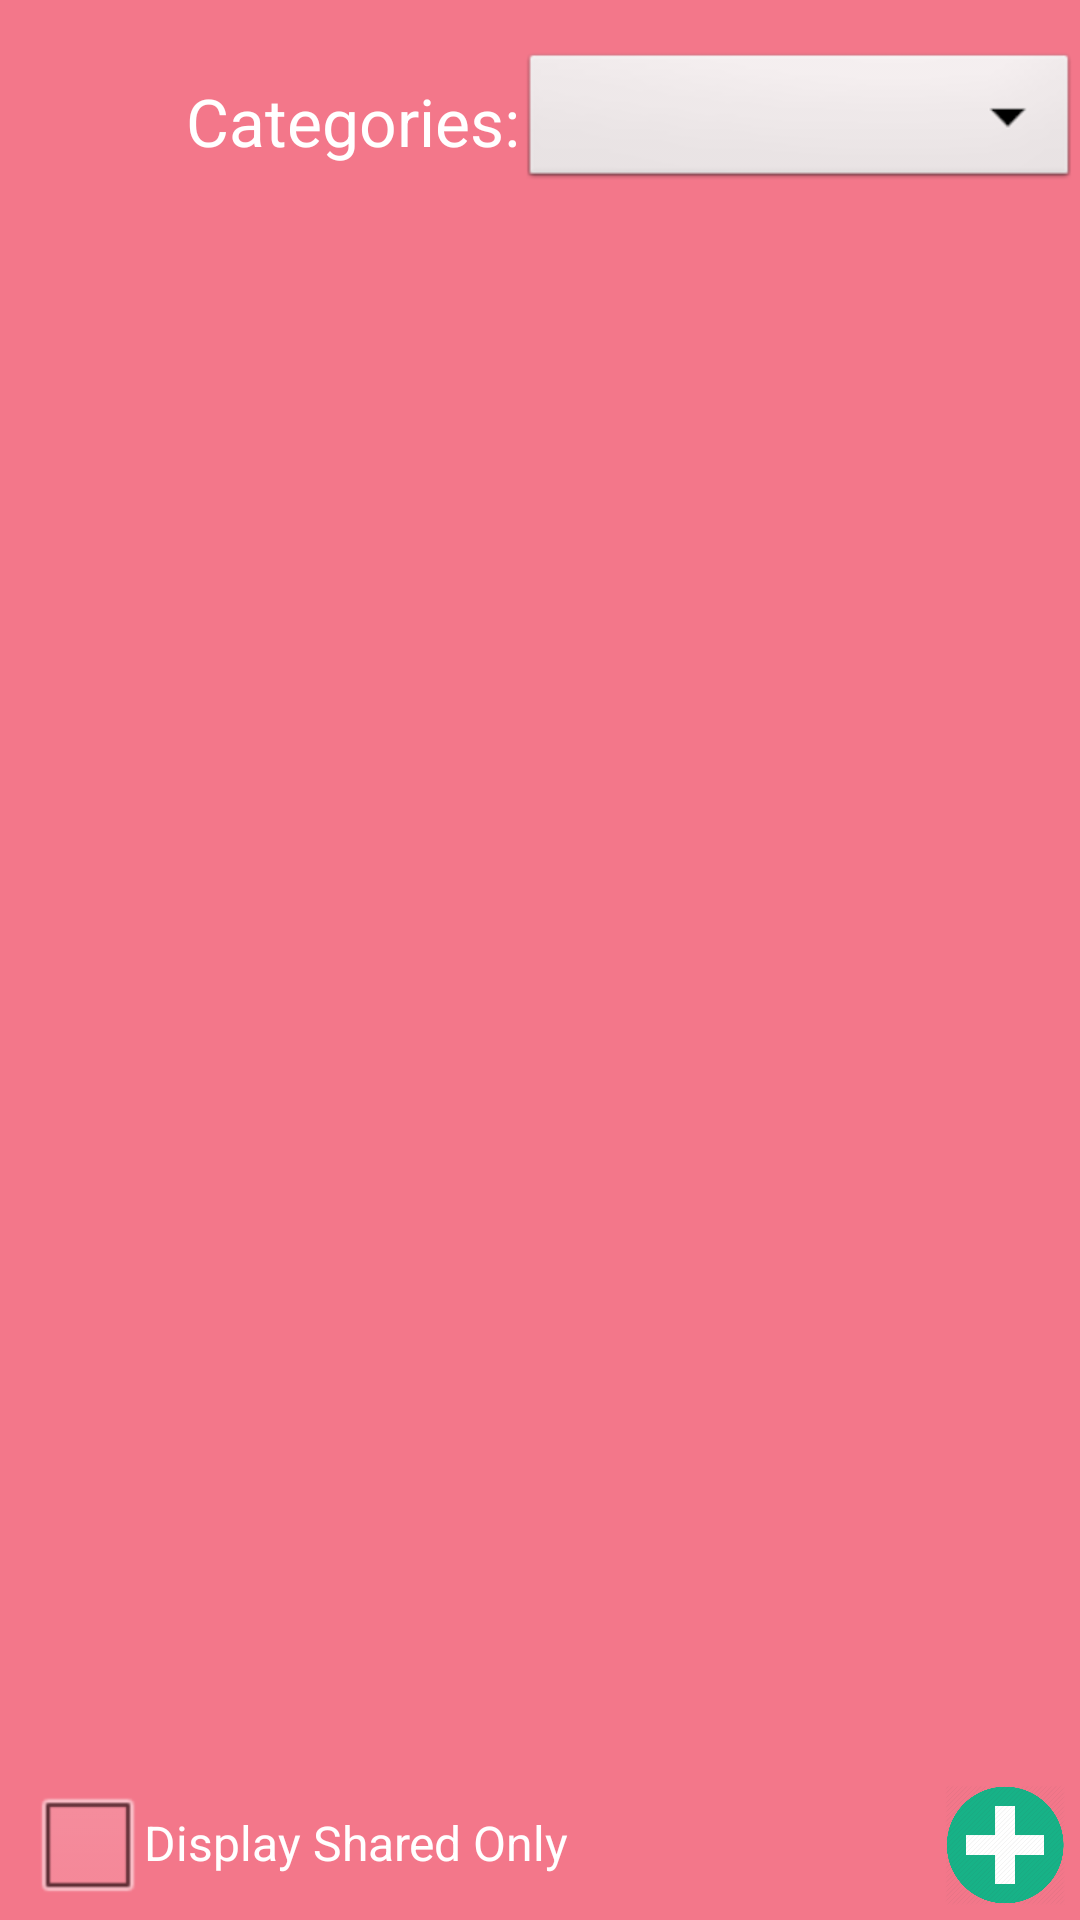

Where to tap for icons on this 1080 x 1920 app screen, as (x,y):
add: (1005,1845)
